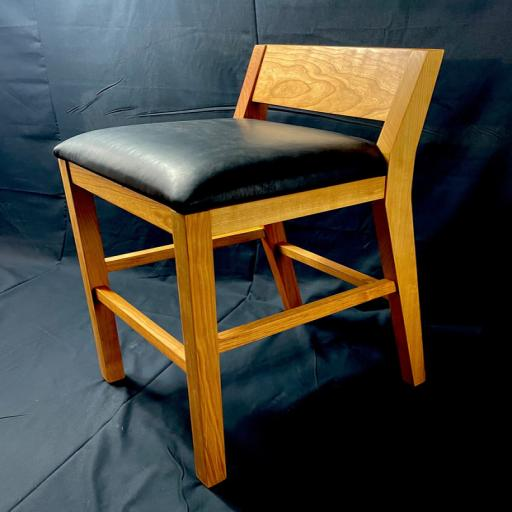chair: (38, 15, 464, 485)
